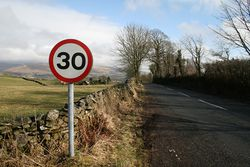Speed_limit_30km: (48, 39, 95, 82)
